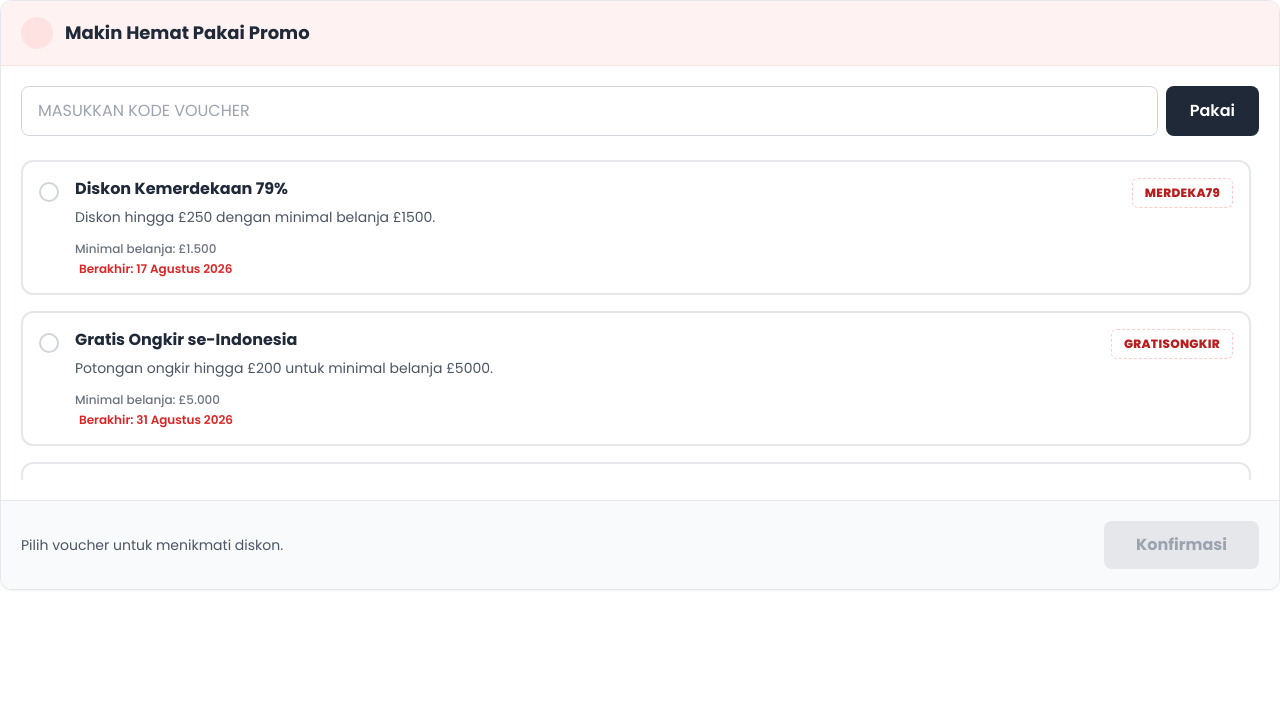
Test: CheckoutVoucher › shows an error when voucher code is empty
Click the button "Pakai" at (1212, 111), box 1166,86 -> 1259,136
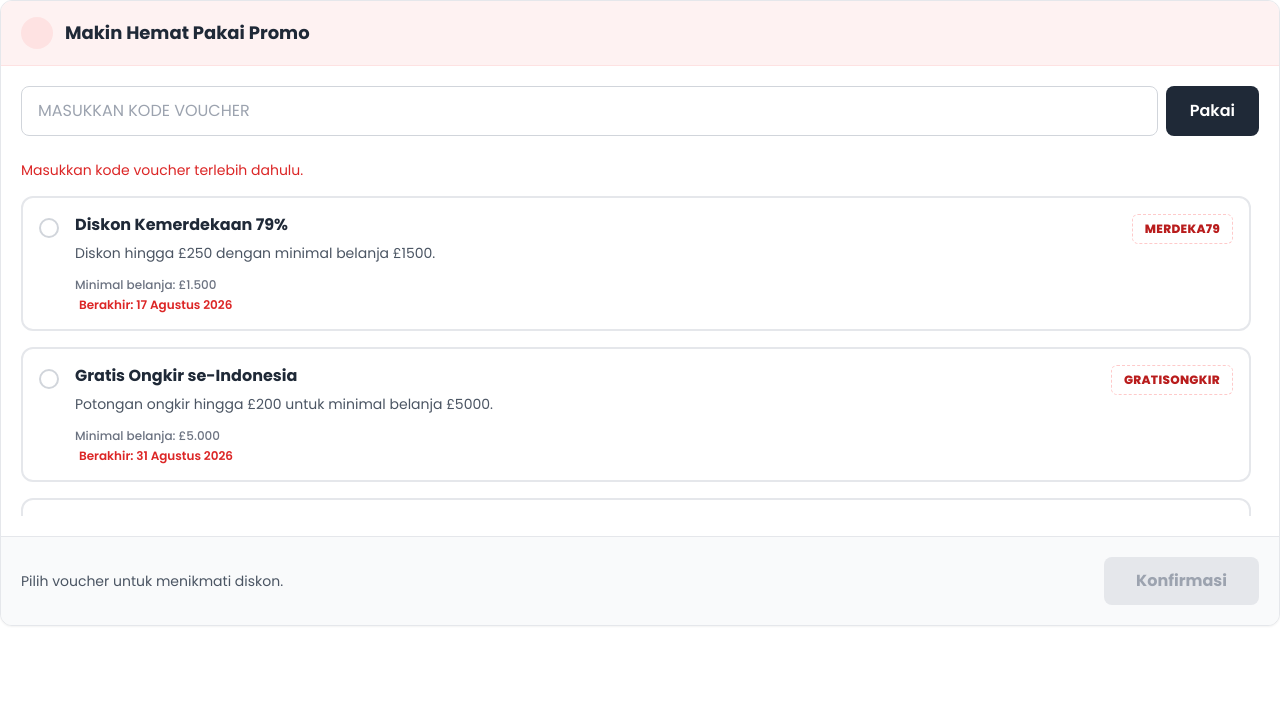
Expected: the text "Masukkan kode voucher terlebih dahulu." is shown, 21,160 -> 303,180
